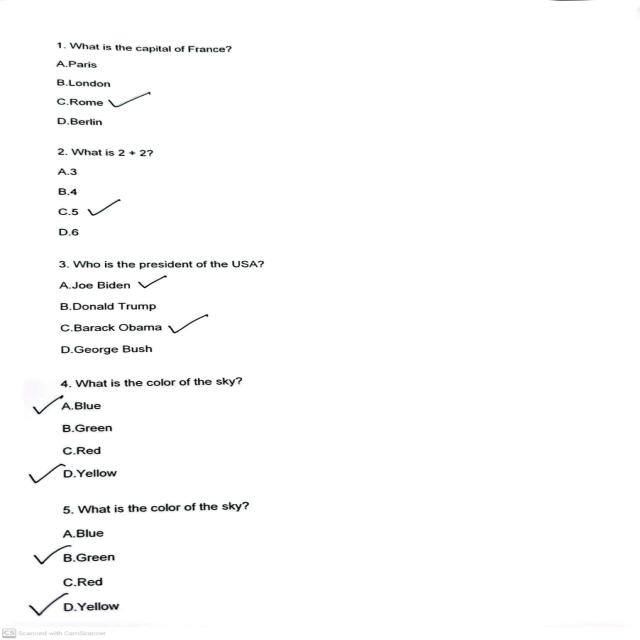Student_Ticked: (163, 313, 223, 337), (106, 89, 165, 110), (27, 538, 71, 566), (23, 460, 71, 485), (81, 193, 127, 219), (30, 587, 68, 617), (22, 389, 65, 414), (135, 272, 172, 291)
